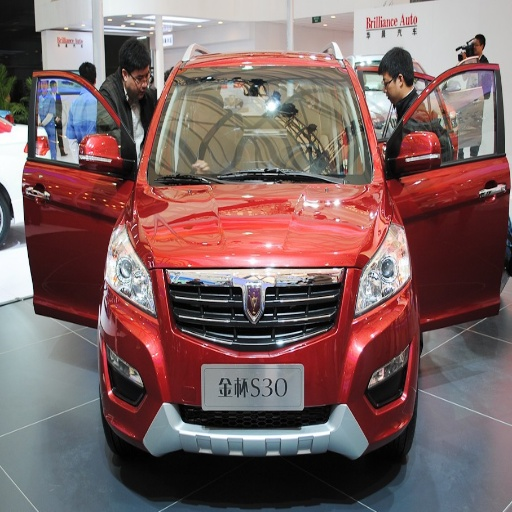front_bumper: (100, 267, 411, 457)
front_left_light: (354, 233, 412, 316)
front_right_door: (56, 76, 137, 212)
front_right_light: (107, 226, 158, 316)
hood: (130, 182, 386, 267)
